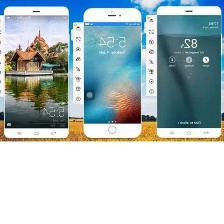phone: (0, 4, 71, 140), (153, 3, 224, 139), (81, 4, 145, 140)
